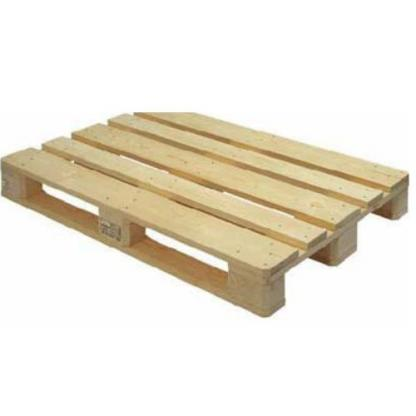BoxFace: (0, 108, 410, 323)
